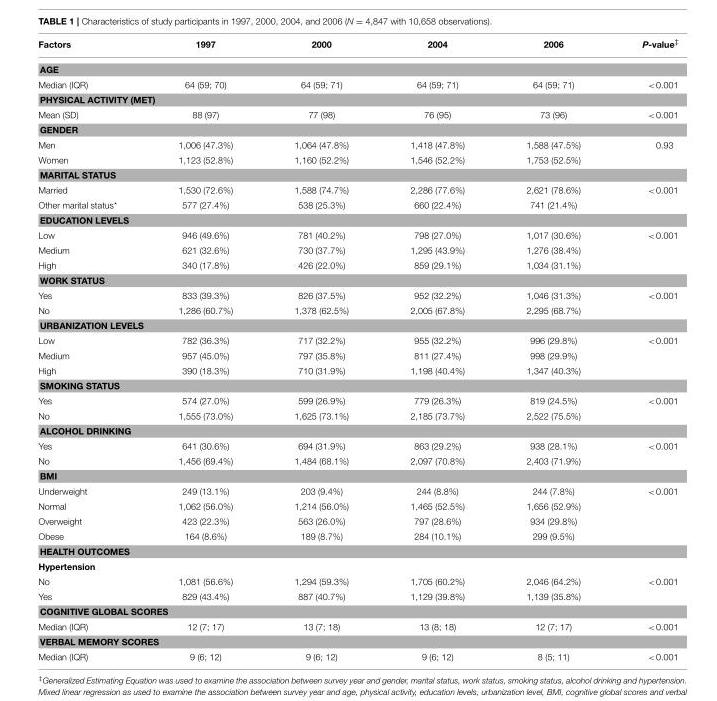table: (37, 37, 677, 661)
table column: (146, 37, 262, 661), (262, 37, 378, 661), (378, 37, 494, 661), (494, 37, 610, 661), (37, 37, 146, 661), (610, 37, 677, 661)
table column header: (37, 37, 677, 56)
table projected row header: (37, 56, 677, 77), (37, 317, 677, 333), (37, 92, 677, 107), (37, 122, 677, 137), (37, 167, 677, 182), (37, 212, 677, 227), (37, 272, 677, 287), (37, 378, 677, 393), (37, 423, 677, 438), (37, 468, 677, 483), (37, 543, 677, 558), (37, 558, 677, 573), (37, 604, 677, 619), (37, 634, 677, 649)
table row: (37, 56, 677, 77), (37, 37, 677, 56), (37, 317, 677, 333), (37, 588, 677, 604), (37, 77, 677, 92), (37, 92, 677, 107), (37, 107, 677, 122), (37, 122, 677, 137), (37, 137, 677, 152), (37, 152, 677, 167), (37, 167, 677, 182), (37, 182, 677, 197), (37, 197, 677, 212), (37, 212, 677, 227), (37, 227, 677, 242), (37, 242, 677, 257), (37, 257, 677, 272), (37, 272, 677, 287), (37, 287, 677, 302), (37, 302, 677, 317), (37, 333, 677, 348), (37, 348, 677, 363), (37, 363, 677, 378), (37, 378, 677, 393), (37, 393, 677, 408), (37, 408, 677, 423), (37, 423, 677, 438), (37, 438, 677, 453), (37, 453, 677, 468), (37, 468, 677, 483), (37, 483, 677, 498), (37, 498, 677, 513), (37, 513, 677, 528), (37, 528, 677, 543), (37, 543, 677, 558), (37, 558, 677, 573), (37, 573, 677, 588), (37, 604, 677, 619), (37, 619, 677, 634), (37, 634, 677, 649), (37, 649, 677, 661)
